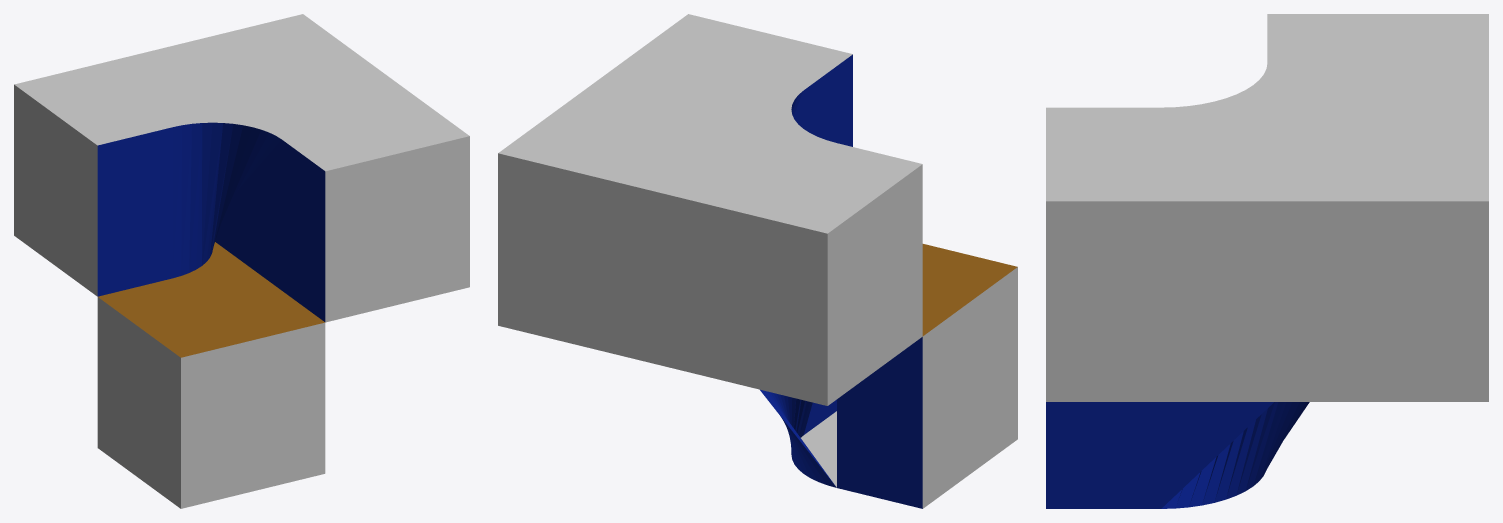
File: case_120.fbx
3 views of the same model, side by side, from view 1: azimuth 30°, elevation 25°; view 2: azimuth 150°, elevation 25°; view 3: azimuth 270°, elevation 25° (orthographic). The views are drawn at different scales.
Parts seen in each view (by area): view 1: case_120; view 2: case_120; view 3: case_120.
Boxes of the visible parts, x1=… form: case_120: x1=14, y1=14, x2=469, y2=508; case_120: x1=498, y1=14, x2=1017, y2=508; case_120: x1=1046, y1=14, x2=1488, y2=508.
Size of the model in its own units: 1 by 1 by 1.
